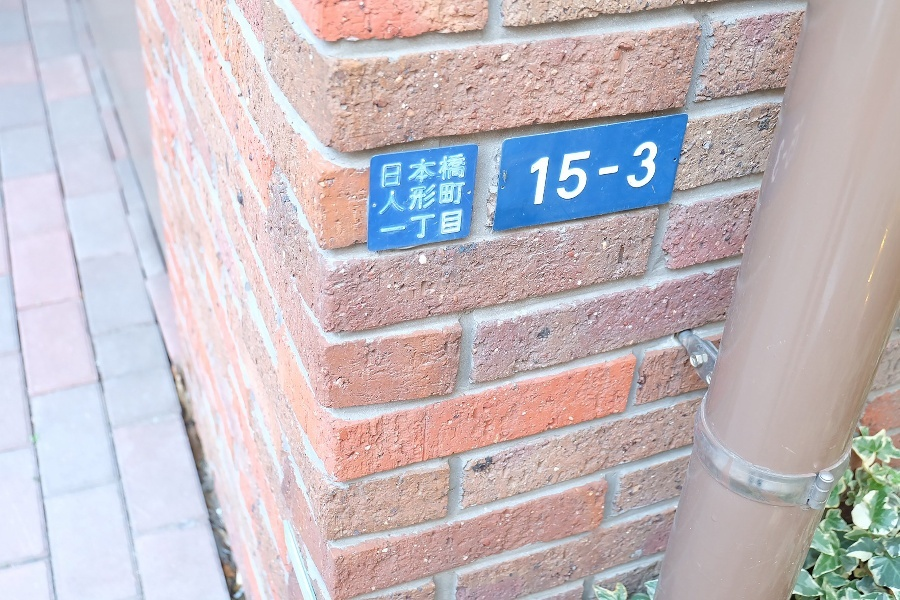text: (545, 138, 560, 208), (561, 138, 576, 208), (577, 138, 592, 208), (593, 138, 608, 208), (609, 138, 624, 208), (625, 138, 640, 208), (641, 138, 656, 208), (530, 138, 544, 208), (385, 153, 400, 192), (401, 153, 416, 192), (417, 153, 432, 192), (433, 153, 448, 192), (449, 153, 464, 192), (385, 180, 400, 217), (401, 180, 416, 217), (417, 180, 432, 217), (433, 180, 448, 217), (449, 180, 464, 217), (385, 209, 400, 244), (401, 209, 416, 244), (417, 209, 432, 244), (433, 209, 448, 244), (449, 209, 464, 244), (377, 209, 384, 244), (380, 153, 384, 192), (380, 180, 384, 217), (657, 138, 659, 208), (465, 153, 467, 192), (465, 180, 466, 217)
